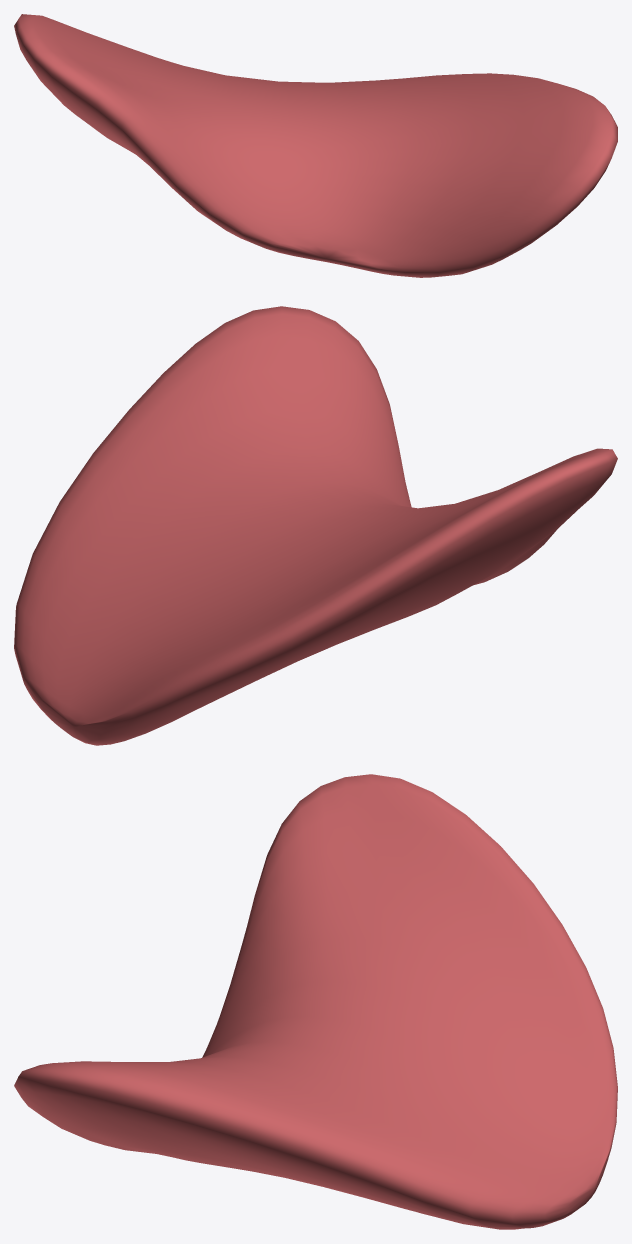
3 views of the same model, one above another, from view 1: azimuth 30°, elevation 25°; view 2: azimuth 150°, elevation 25°; view 3: azimuth 270°, elevation 25° (orthographic). The views are drawn at different scales.
Visible parts, largest first — view 1: 左侧股二头肌上囊; view 2: 左侧股二头肌上囊; view 3: 左侧股二头肌上囊.
Boxes of the visible parts, x1=… form: 左侧股二头肌上囊: x1=14, y1=14, x2=617, y2=277; 左侧股二头肌上囊: x1=14, y1=306, x2=617, y2=745; 左侧股二头肌上囊: x1=14, y1=774, x2=617, y2=1229.
Bounding box in the file's own units: 0.0294 × 0.0153 × 0.0317.
